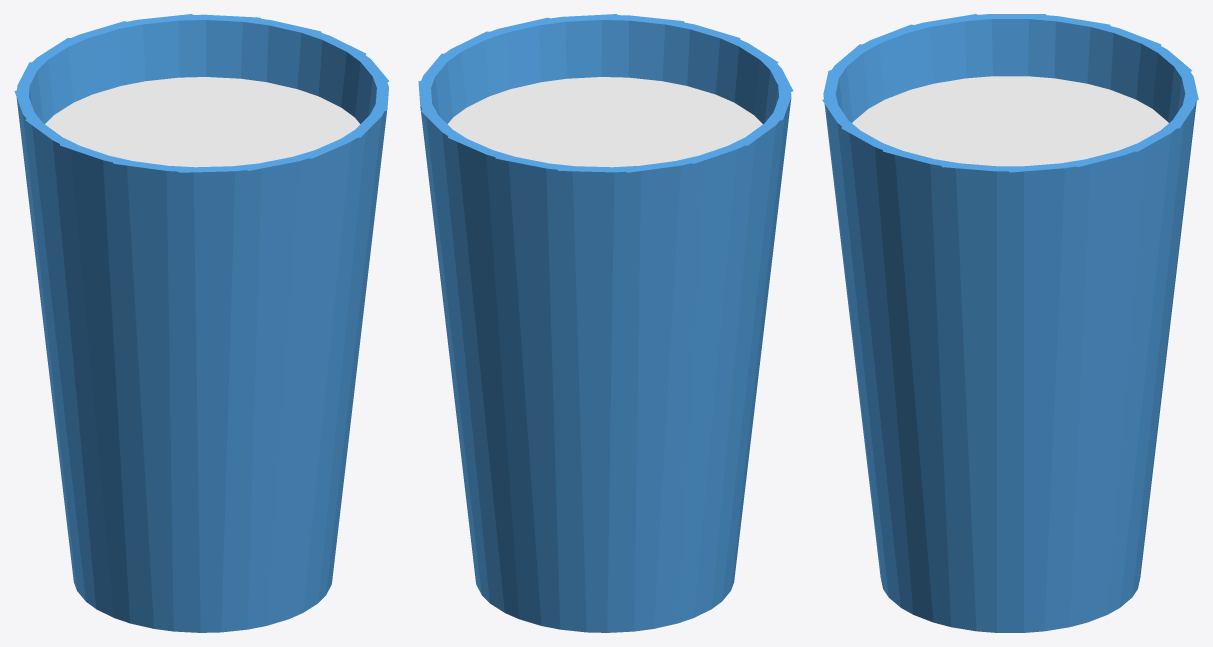
3 views of the same model, side by side, from view 1: azimuth 30°, elevation 25°; view 2: azimuth 150°, elevation 25°; view 3: azimuth 270°, elevation 25° (orthographic).
Visible parts, largest first — view 1: Cylinder003, Cylinder004; view 2: Cylinder003, Cylinder004; view 3: Cylinder003, Cylinder004.
Boxes of the visible parts, x1=… form: Cylinder003: x1=14, y1=14, x2=389, y2=632; Cylinder004: x1=45, y1=77, x2=360, y2=167; Cylinder003: x1=418, y1=14, x2=793, y2=632; Cylinder004: x1=447, y1=77, x2=762, y2=167; Cylinder003: x1=822, y1=14, x2=1198, y2=632; Cylinder004: x1=852, y1=76, x2=1168, y2=166.
Bounding box in the file's own units: 388 × 554 × 389.
